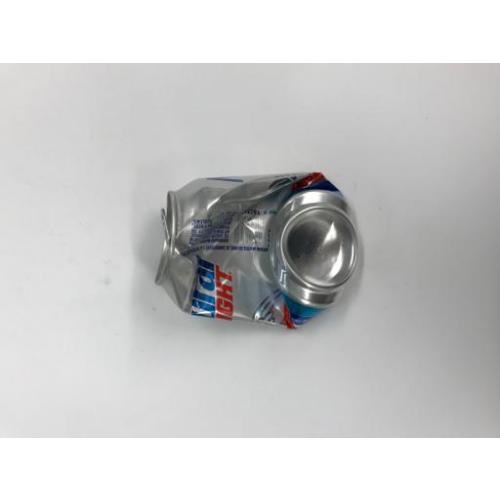metal: (157, 170, 358, 327)
